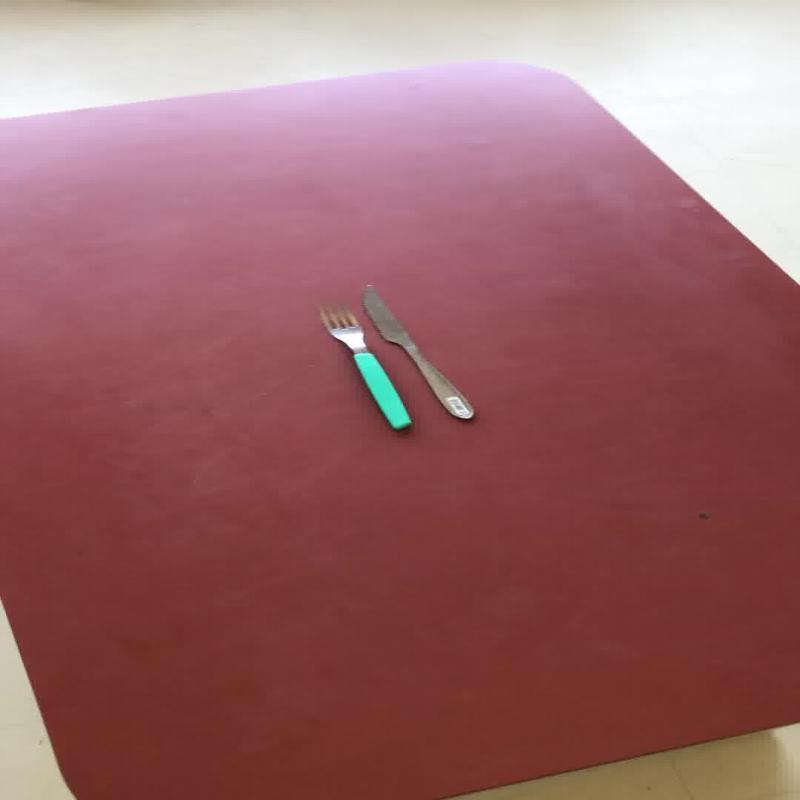fork: (314, 304, 412, 430)
knife: (358, 282, 474, 420)
